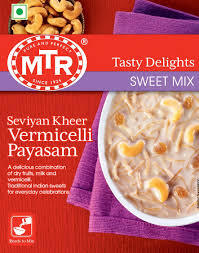VEG: (11, 3, 28, 20)
